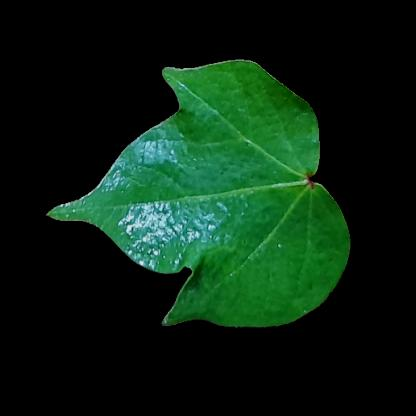healthy: (149, 152, 301, 251), (199, 220, 312, 312), (190, 75, 284, 145), (97, 176, 149, 228)
